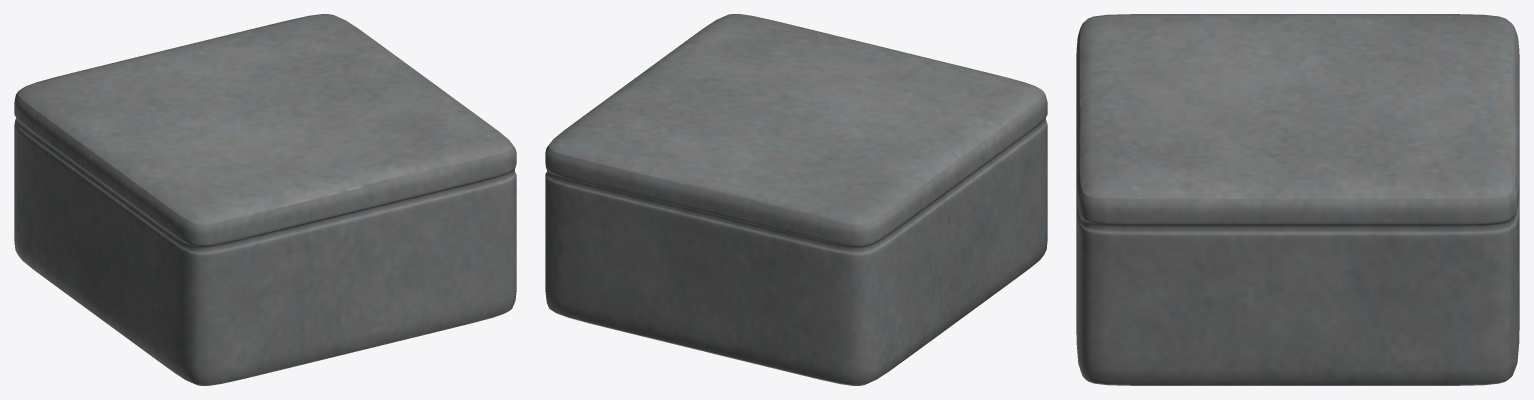
Rendered from PillowCouch.fbx.
The picture shows the model from 3 angles, left to right: view 1: azimuth 30°, elevation 25°; view 2: azimuth 150°, elevation 25°; view 3: azimuth 270°, elevation 25°; orthographic projection. The views are drawn at different scales.
Parts seen in each view (by area): view 1: PillowCouch; view 2: PillowCouch; view 3: PillowCouch.
Boxes of the visible parts, left/top/right/bottom form: PillowCouch: left=14, top=14, right=516, bottom=385; PillowCouch: left=545, top=14, right=1047, bottom=385; PillowCouch: left=1076, top=14, right=1519, bottom=385.
Size of the model in its own units: 76.95 by 38.66 by 76.95.
1 material, 1 textured.
